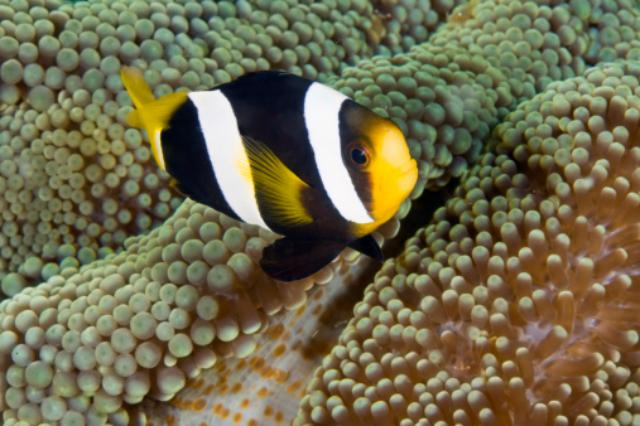Mulut: (378, 139, 430, 193)
Sirip Dada: (216, 125, 322, 235)
Sirip Perut: (248, 224, 388, 308)
Sirip Punggung: (126, 57, 322, 135)
